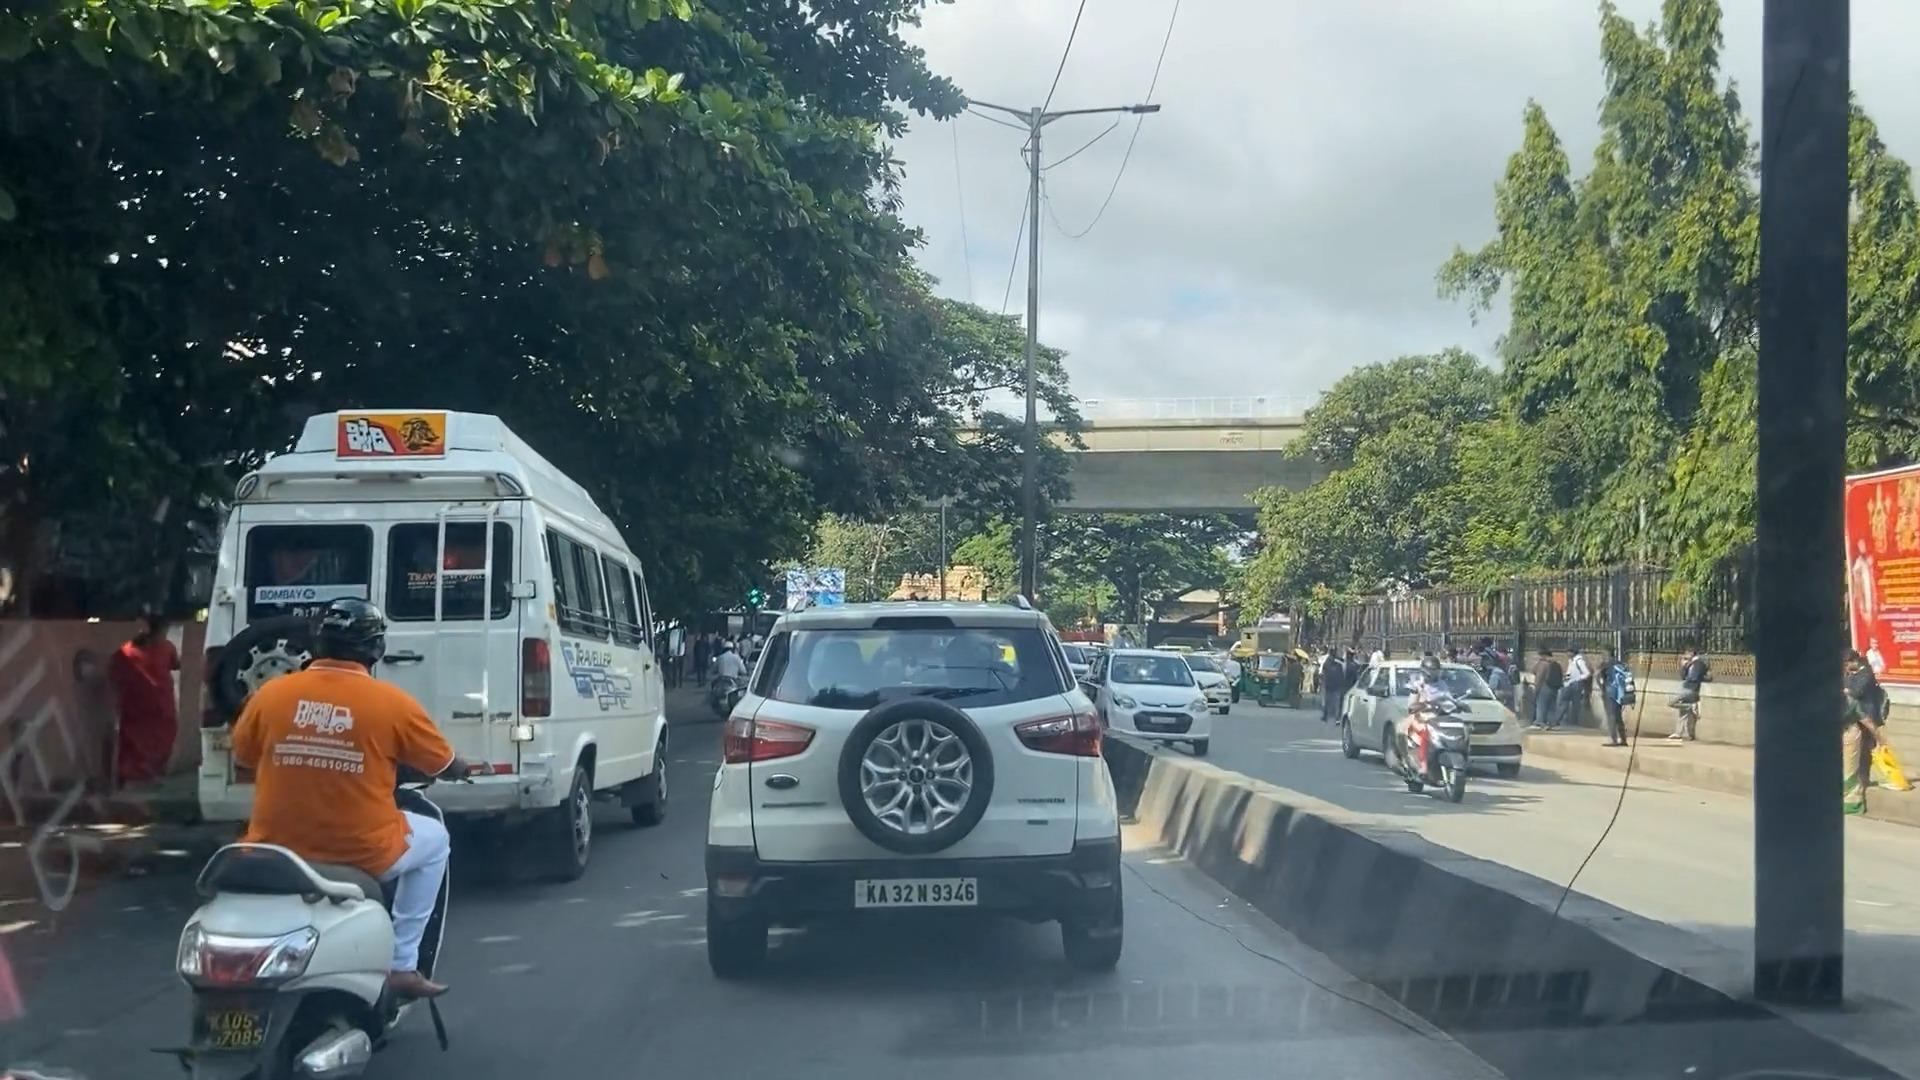HMV: (236, 378, 667, 844)
LMV: (750, 575, 1145, 986), (203, 605, 447, 1080)
